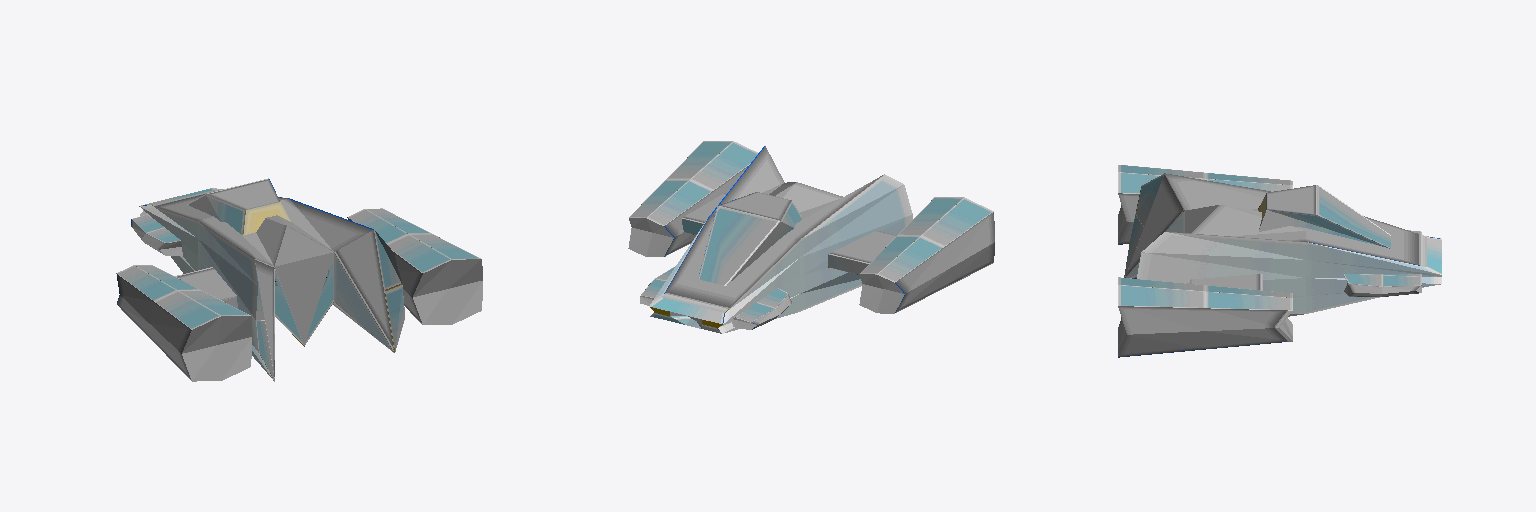
3 renders of one model, left to right at view 1: azimuth 30°, elevation 25°; view 2: azimuth 150°, elevation 25°; view 3: azimuth 270°, elevation 25°, orthographic.
Parts seen in each view (by area): view 1: Cube; view 2: Cube; view 3: Cube.
Part boxes in pixels (bbox=[...]): Cube: bbox=[116, 178, 482, 381]; Cube: bbox=[628, 141, 994, 333]; Cube: bbox=[1118, 165, 1441, 357].
Size of the model in its own units: 9.58 by 3.4 by 8.9.
Materials: 1 (1 with a texture image).